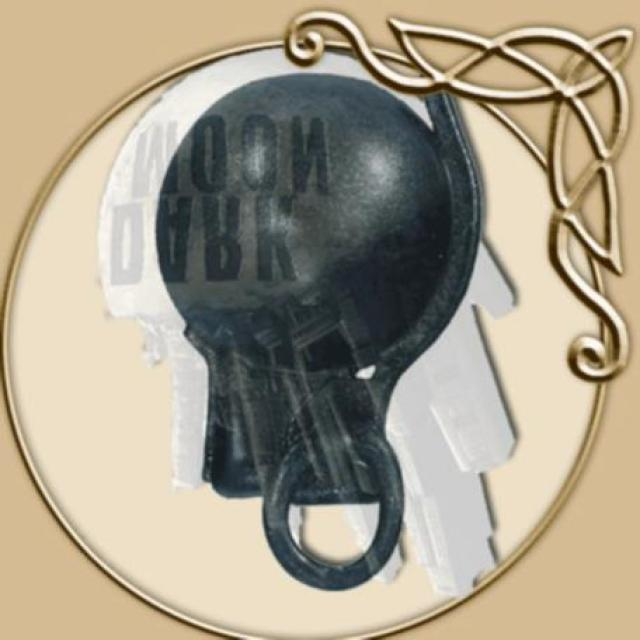grenade: (155, 72, 485, 593)
